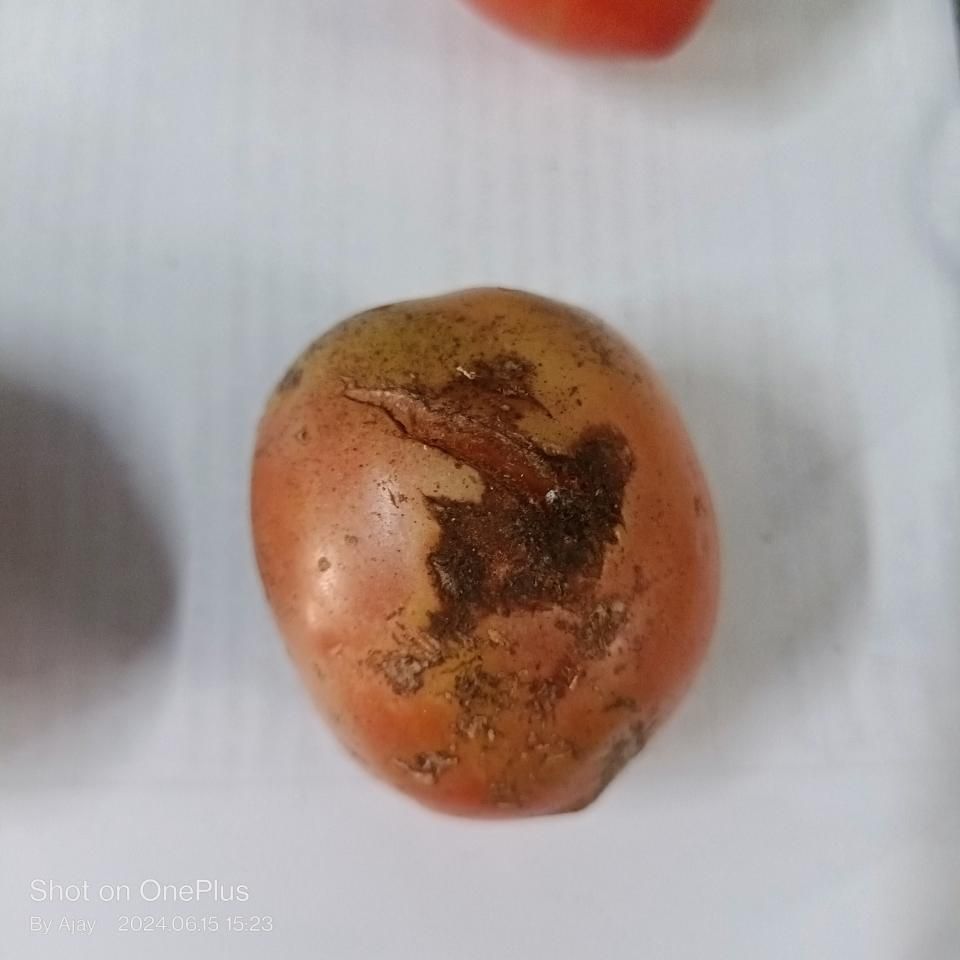Cracking: (337, 351, 644, 698)
